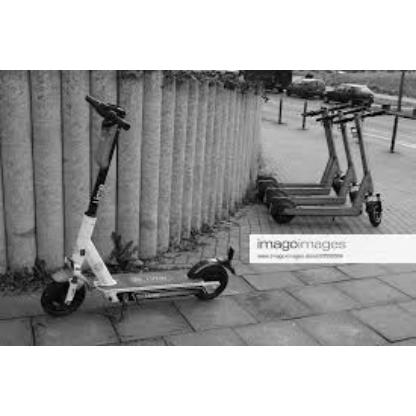bike: (40, 96, 236, 320)
car: (327, 83, 375, 108)
